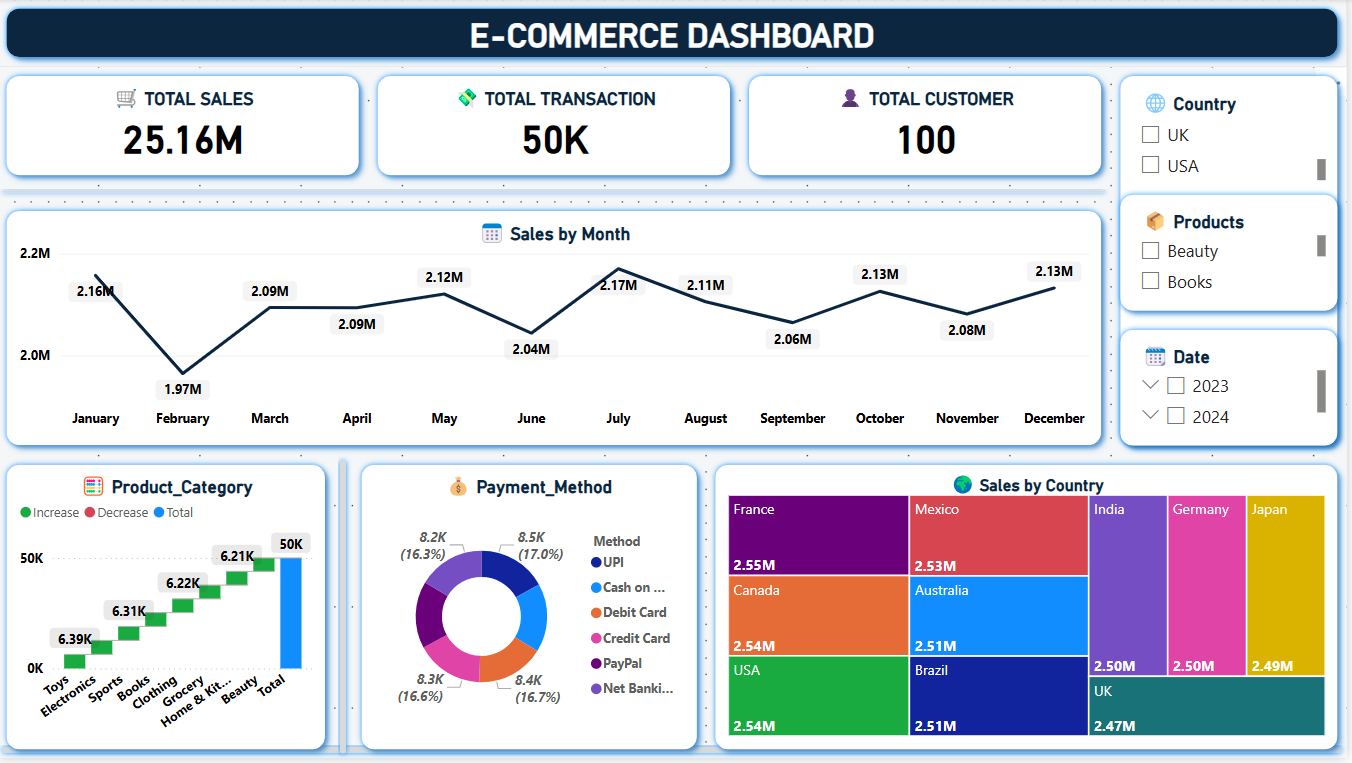

What the dashboard file says about the page in this screenshot:
{"tool":"powerbi","page":{"name":"Page 1","canvas":[1280,720],"ordinal":0},"visuals":[{"type":"shape","box":[0,0,1280,64],"z":0},{"type":"shape","box":[0,704,1280,16],"z":1000},{"type":"shape","box":[0,432,320,288],"z":2000},{"type":"shape","box":[672,432,608,288],"z":3000},{"type":"shape","box":[0,64,352,112],"z":4000},{"type":"shape","box":[352,64,352,112],"z":5000},{"type":"shape","box":[704,64,352,112],"z":6000},{"type":"shape","box":[0,192,1056,240],"z":7000},{"type":"shape","box":[0,176,1056,12],"z":8000},{"type":"textbox","title":"E-COMMERCE DASHBOARD","box":[32,16,1216,32],"z":9000},{"type":"shape","box":[336,432,336,288],"z":10000},{"type":"shape","box":[320,432,16,288],"z":11000},{"type":"card","title":"👤 TOTAL CUSTOMER","fields":{"Values":["cleaned_ecommerce superstore.Total Customer"]},"box":[720,80,320,80],"z":12000},{"type":"waterfallChart","title":"🧮  Product_Category","fields":{"Category":["cleaned_ecommerce superstore.Product_Category"],"Y":["CountNonNull(cleaned_ecommerce superstore.Sales)"]},"box":[16,448,288,256],"z":13000},{"type":"donutChart","title":"💰  Payment_Method","fields":{"Y":["CountNonNull(cleaned_ecommerce superstore.Sales)"],"Category":["cleaned_ecommerce superstore.Payment_Method"]},"box":[352,448,304,256],"z":14000},{"type":"card","title":"💸 TOTAL TRANSACTION","fields":{"Values":["cleaned_ecommerce superstore.Total Transaction"]},"box":[368,80,320,80],"z":15000},{"type":"card","title":"🛒 TOTAL SALES","fields":{"Values":["cleaned_ecommerce superstore.Total Sales"]},"box":[16,80,320,80],"z":16000},{"type":"lineChart","title":"📅  Sales by Month","fields":{"Category":["cleaned_ecommerce superstore.Transaction_Date.Variation.Date Hierarchy.Month"],"Y":["Sum(cleaned_ecommerce superstore.Sales)"]},"box":[16,208,1024,208],"z":17000},{"type":"treemap","title":"🌍 Sales by Country","fields":{"Group":["cleaned_ecommerce superstore.Country","cleaned_ecommerce superstore.Product_Category"],"Values":["Sum(cleaned_ecommerce superstore.Sales)"]},"box":[688,448,576,256],"z":18000},{"type":"shape","box":[1056,64,224,368],"z":19000},{"type":"shape","box":[1056,176,224,128],"z":19001},{"type":"shape","box":[1056,304,224,128],"z":19002},{"type":"slicer","fields":{"Values":["cleaned_ecommerce superstore.Country"]},"box":[1072,80,192,96],"z":19005},{"type":"slicer","fields":{"Values":["cleaned_ecommerce superstore.Product_Category"]},"box":[1072,192,192,96],"z":19006},{"type":"slicer","fields":{"Values":["cleaned_ecommerce superstore.Transaction_Date.Variation.Date Hierarchy.Year","cleaned_ecommerce superstore.Transaction_Date.Variation.Date Hierarchy.Quarter"]},"box":[1072,320,192,96],"z":19007}]}

Visuals, with their boxes in screenshot pixels (x1, y1, x2, y2), scaled from the page's 1280x720 canvas onto the 1352x763 screenshot:
shape: (0, 0, 1351, 68)
shape: (0, 746, 1351, 762)
shape: (0, 458, 338, 762)
shape: (710, 458, 1351, 762)
shape: (0, 68, 372, 187)
shape: (372, 68, 744, 187)
shape: (744, 68, 1115, 187)
shape: (0, 203, 1115, 458)
shape: (0, 187, 1115, 199)
"E-COMMERCE DASHBOARD" textbox: (34, 17, 1318, 51)
shape: (355, 458, 710, 762)
shape: (338, 458, 355, 762)
"👤 TOTAL CUSTOMER" card: (760, 85, 1098, 170)
"🧮  Product_Category" waterfallChart: (17, 475, 321, 746)
"💰  Payment_Method" donutChart: (372, 475, 693, 746)
"💸 TOTAL TRANSACTION" card: (389, 85, 727, 170)
"🛒 TOTAL SALES" card: (17, 85, 355, 170)
"📅  Sales by Month" lineChart: (17, 220, 1098, 441)
"🌍 Sales by Country" treemap: (727, 475, 1335, 746)
shape: (1115, 68, 1351, 458)
shape: (1115, 187, 1351, 322)
shape: (1115, 322, 1351, 458)
slicer - cleaned_ecommerce superstore.Country: (1132, 85, 1335, 187)
slicer - cleaned_ecommerce superstore.Product_Category: (1132, 203, 1335, 305)
slicer - cleaned_ecommerce superstore.Transaction_Date.Variation.Date Hierarchy.Year x cleaned_ecommerce superstore.Transaction_Date.Variation.Date Hierarchy.Quarter: (1132, 339, 1335, 441)
